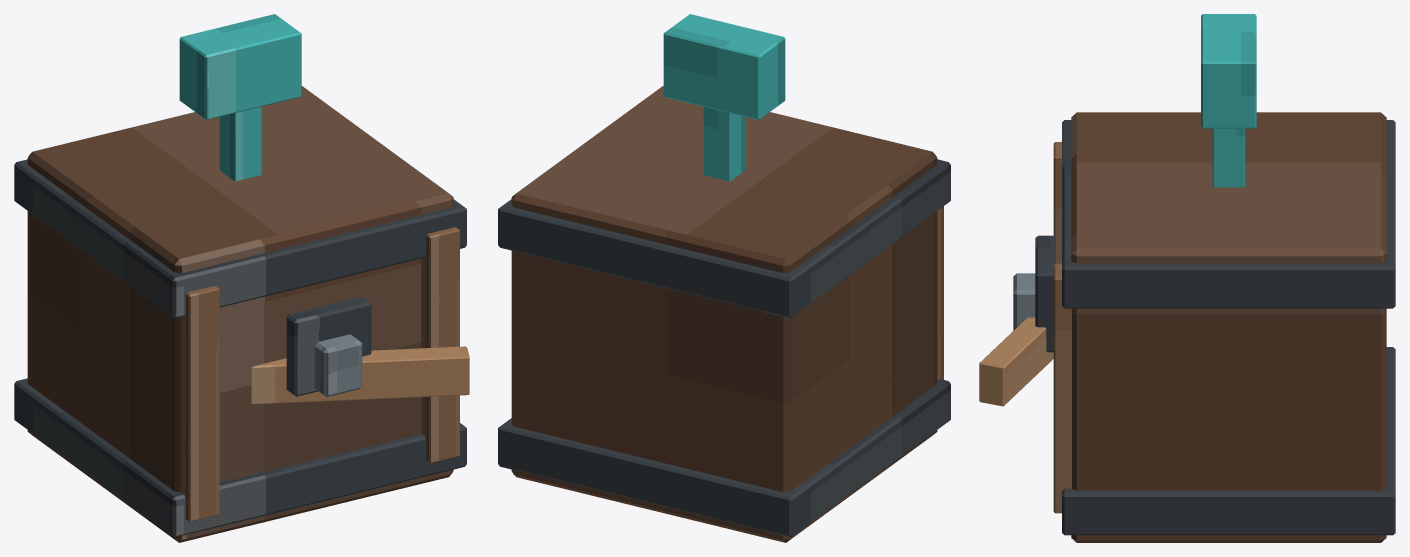
Rendered from locked_relay_crate.glb.
3 views of the same model, side by side, from view 1: azimuth 30°, elevation 25°; view 2: azimuth 150°, elevation 25°; view 3: azimuth 270°, elevation 25° (orthographic). The views are drawn at different scales.
Parts seen in each view (by area): view 1: CrateBody, CrateBand_0.62, CrateBand_0.08, RelaySignalHead, FrontBrace_-0.31, FrontCrossBrace, FrontBrace_0.31, LockPlate, RelayAntenna, Padlock; view 2: CrateBody, CrateBand_0.62, CrateBand_0.08, RelaySignalHead, RelayAntenna, FrontBrace_-0.31; view 3: CrateBody, CrateBand_0.62, CrateBand_0.08, RelaySignalHead, FrontBrace_0.31, FrontCrossBrace, LockPlate, RelayAntenna, Padlock, FrontBrace_-0.31.
Part boxes in pixels (bbox=[...]): CrateBody: bbox=[27, 86, 453, 542]; CrateBand_0.62: bbox=[14, 159, 466, 318]; CrateBand_0.08: bbox=[14, 378, 466, 537]; RelaySignalHead: bbox=[179, 14, 301, 119]; FrontBrace_-0.31: bbox=[180, 285, 219, 521]; FrontCrossBrace: bbox=[251, 346, 469, 404]; FrontBrace_0.31: bbox=[421, 227, 459, 463]; LockPlate: bbox=[286, 296, 371, 396]; RelayAntenna: bbox=[219, 106, 261, 181]; Padlock: bbox=[314, 334, 362, 397]; CrateBody: bbox=[511, 86, 937, 542]; CrateBand_0.62: bbox=[498, 159, 950, 318]; CrateBand_0.08: bbox=[498, 379, 950, 537]; RelaySignalHead: bbox=[663, 14, 785, 119]; RelayAntenna: bbox=[703, 107, 745, 181]; FrontBrace_-0.31: bbox=[937, 206, 943, 379]; CrateBody: bbox=[1071, 112, 1386, 542]; CrateBand_0.62: bbox=[1062, 120, 1395, 308]; CrateBand_0.08: bbox=[1062, 347, 1395, 535]; RelaySignalHead: bbox=[1201, 14, 1256, 128]; FrontBrace_0.31: bbox=[1053, 263, 1071, 513]; FrontCrossBrace: bbox=[979, 317, 1053, 406]; LockPlate: bbox=[1035, 235, 1055, 352]; RelayAntenna: bbox=[1212, 128, 1244, 187]; Padlock: bbox=[1013, 273, 1035, 330]; FrontBrace_-0.31: bbox=[1053, 142, 1061, 263].
Size of the model in its own units: 0.76 by 1.04 by 0.8983.
Materials: 1 (1 with a texture image).
